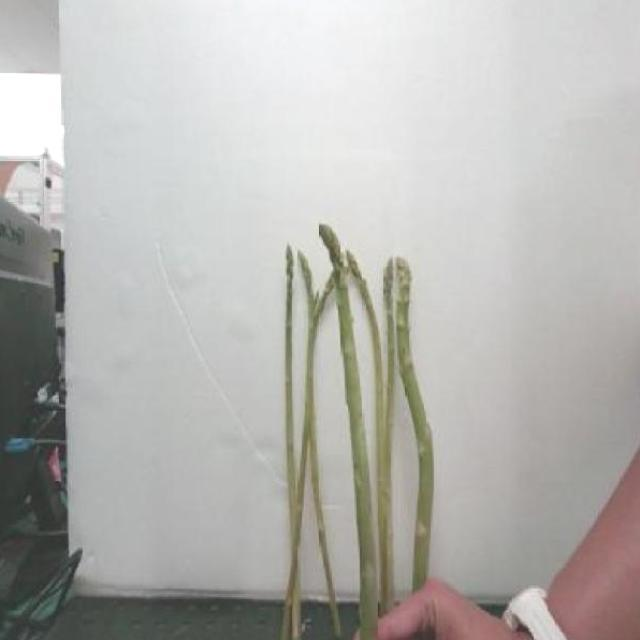aspargus: (314, 216, 383, 639), (387, 258, 437, 594)
